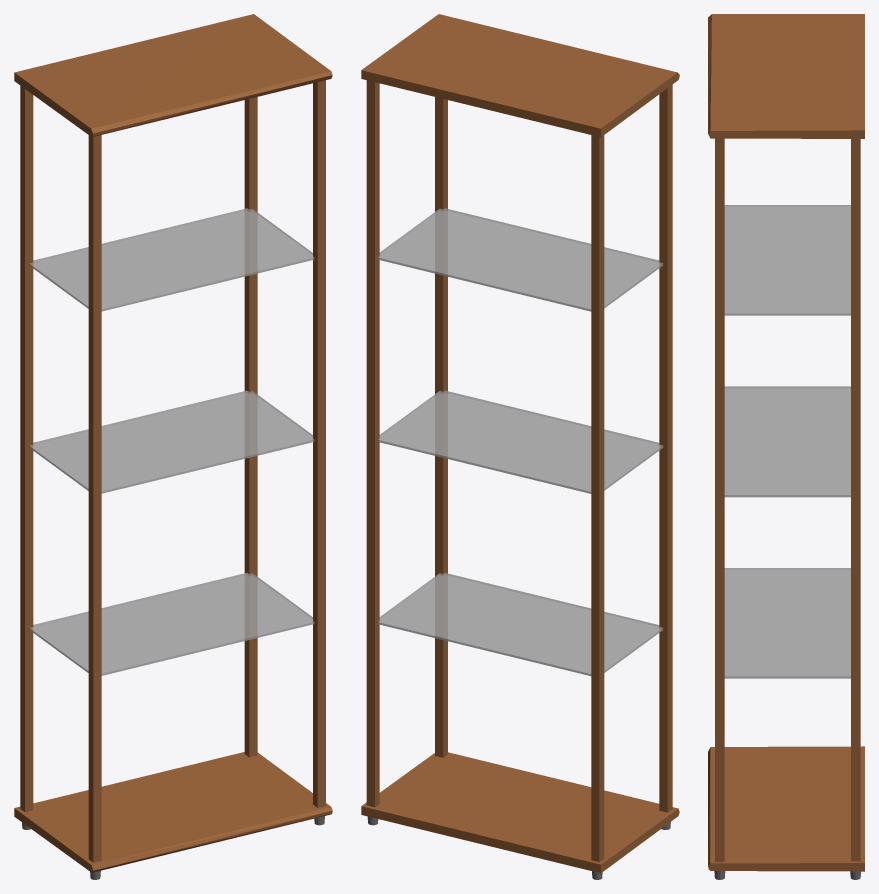
File: shelf-by-cmht-oculus-bOKS6UHjGTR.glb
The picture shows the model from 3 angles, left to right: view 1: azimuth 30°, elevation 25°; view 2: azimuth 150°, elevation 25°; view 3: azimuth 270°, elevation 25°; orthographic projection.
Parts seen in each view (by area): view 1: Node; view 2: Node; view 3: Node.
Boxes of the visible parts, box(x1,y1,x2,y2) form: Node: box(14, 14, 332, 879); Node: box(361, 14, 679, 879); Node: box(708, 14, 864, 879).
Size of the model in its own units: 22.83 by 68.67 by 12.99.
